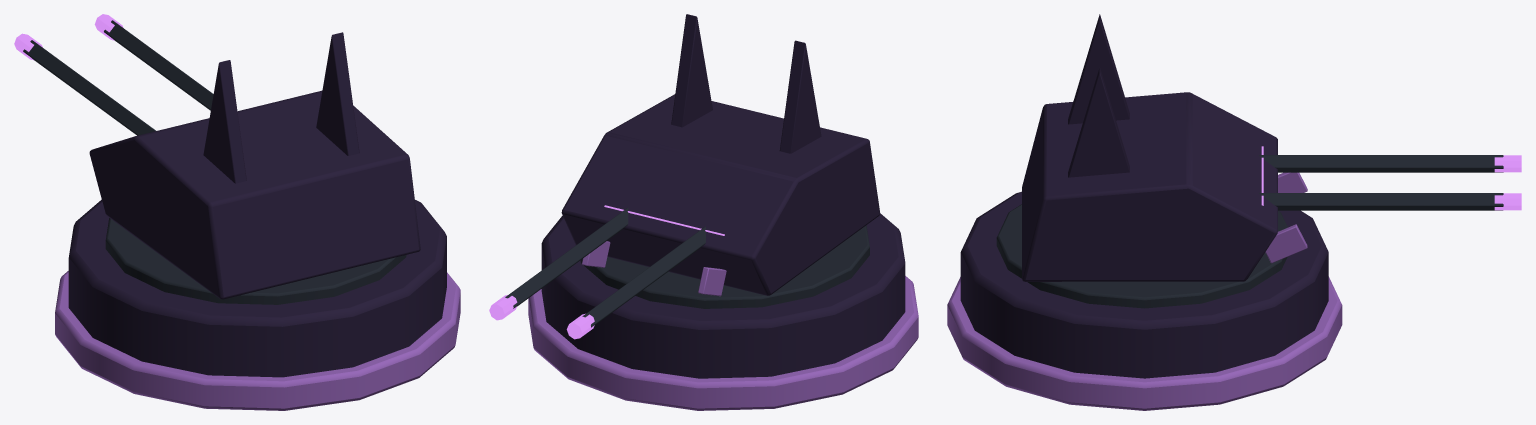
Rendered from katzen_turret_ground.glb.
3 renders of one model, left to right at view 1: azimuth 30°, elevation 25°; view 2: azimuth 150°, elevation 25°; view 3: azimuth 270°, elevation 25°, orthographic. The views are drawn at different scales.
Visible parts, largest first — view 1: head, base, base_ring, base_top, ear_-1, ear_1, barrel_-1, barrel_1; view 2: head, base, base_ring, base_top, ear_-1, ear_1, barrel_1, barrel_-1, fang_-1, glow_-1, glow_1, fang_1; view 3: head, base, base_ring, base_top, barrel_-1, barrel_1, ear_1, ear_-1, fang_1, fang_-1.
Boxes of the visible parts, bbox=[...] form: head: bbox=[89, 90, 420, 299]; base: bbox=[68, 199, 446, 377]; base_ring: bbox=[55, 271, 460, 410]; base_top: bbox=[105, 218, 406, 304]; ear_-1: bbox=[203, 60, 246, 183]; ear_1: bbox=[316, 32, 359, 155]; barrel_-1: bbox=[23, 40, 155, 135]; barrel_1: bbox=[104, 20, 213, 110]; head: bbox=[561, 94, 879, 295]; base: bbox=[541, 213, 905, 378]; base_ring: bbox=[528, 276, 918, 410]; base_top: bbox=[580, 225, 869, 308]; ear_-1: bbox=[779, 40, 821, 153]; ear_1: bbox=[671, 14, 712, 127]; barrel_1: bbox=[505, 207, 628, 308]; barrel_-1: bbox=[582, 226, 705, 327]; fang_-1: bbox=[698, 267, 726, 296]; glow_-1: bbox=[566, 313, 594, 339]; glow_1: bbox=[489, 295, 517, 320]; fang_1: bbox=[582, 241, 610, 267]; head: bbox=[1022, 92, 1277, 281]; base: bbox=[960, 191, 1328, 378]; base_ring: bbox=[947, 276, 1342, 410]; base_top: bbox=[996, 204, 1287, 308]; barrel_-1: bbox=[1259, 155, 1503, 172]; barrel_1: bbox=[1259, 193, 1503, 210]; ear_1: bbox=[1068, 67, 1129, 177]; ear_-1: bbox=[1068, 14, 1129, 124]; fang_1: bbox=[1265, 224, 1307, 263]; fang_-1: bbox=[1278, 172, 1307, 192].
Size of the model in its own units: 1.76 by 1.44 by 2.56.
